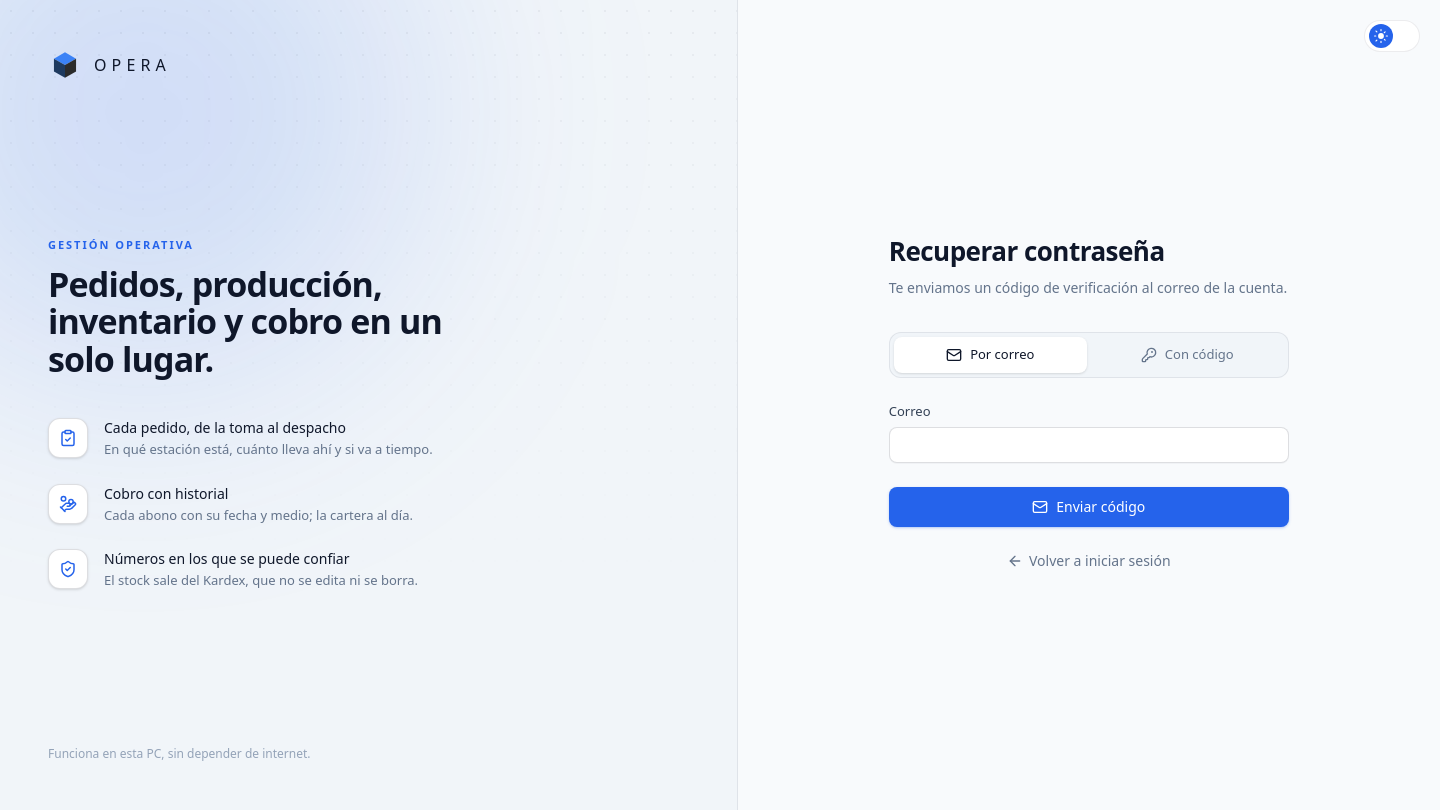
it: ForgotPasswordPage › shows a generic error when the reset failure is not an ApiError
Check: the button "Enviar código" is shown, box [889,487,1289,527]
Type "admin@opera.local" into the field labelled "Correo" at point(1089, 445), box [889,427,1289,463]
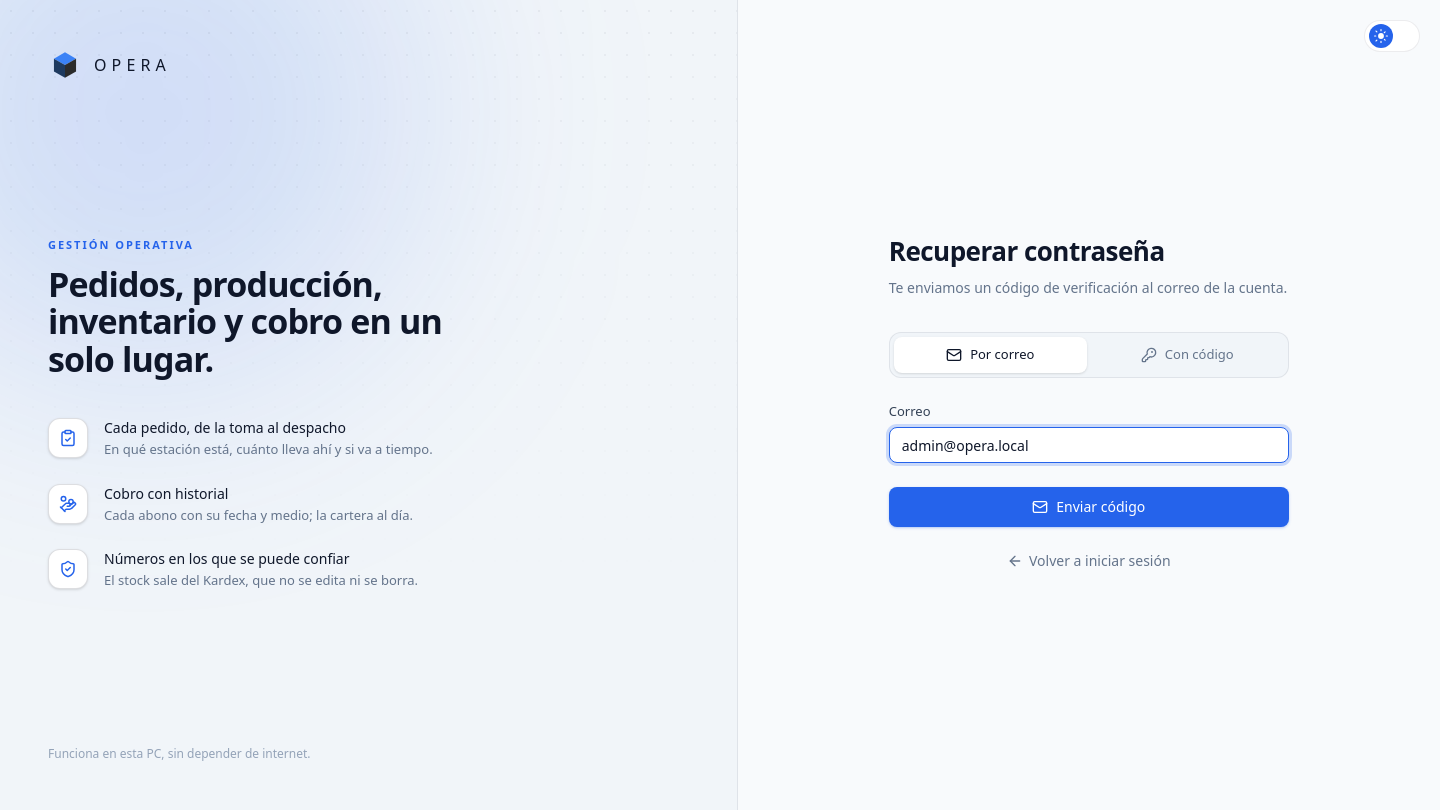
Click the button "Enviar código" at point(1089, 507), box [889,487,1289,527]
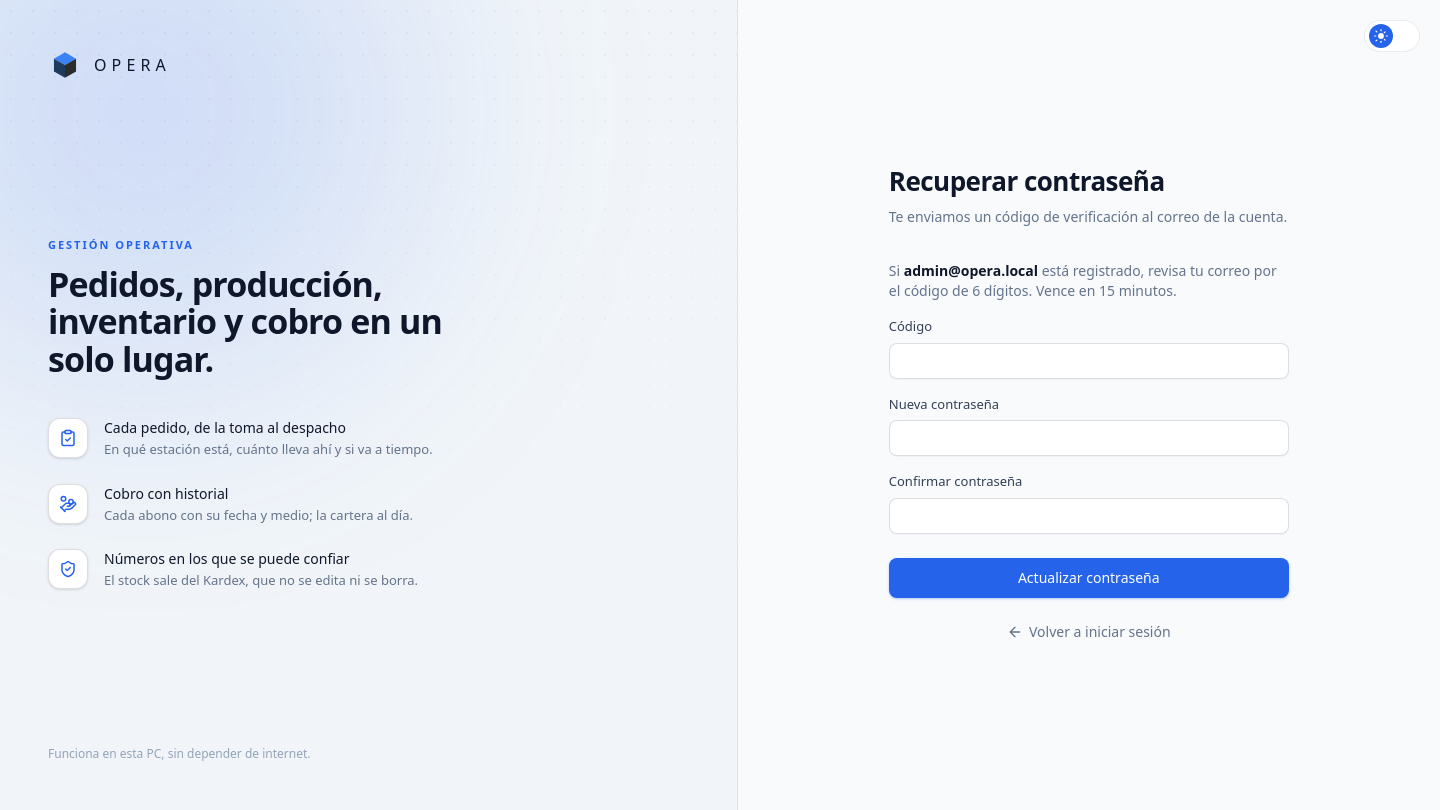
Check: the field labelled "Código" is shown
Type "000000" into the field labelled "Código" at point(1089, 360), box [889,342,1289,378]
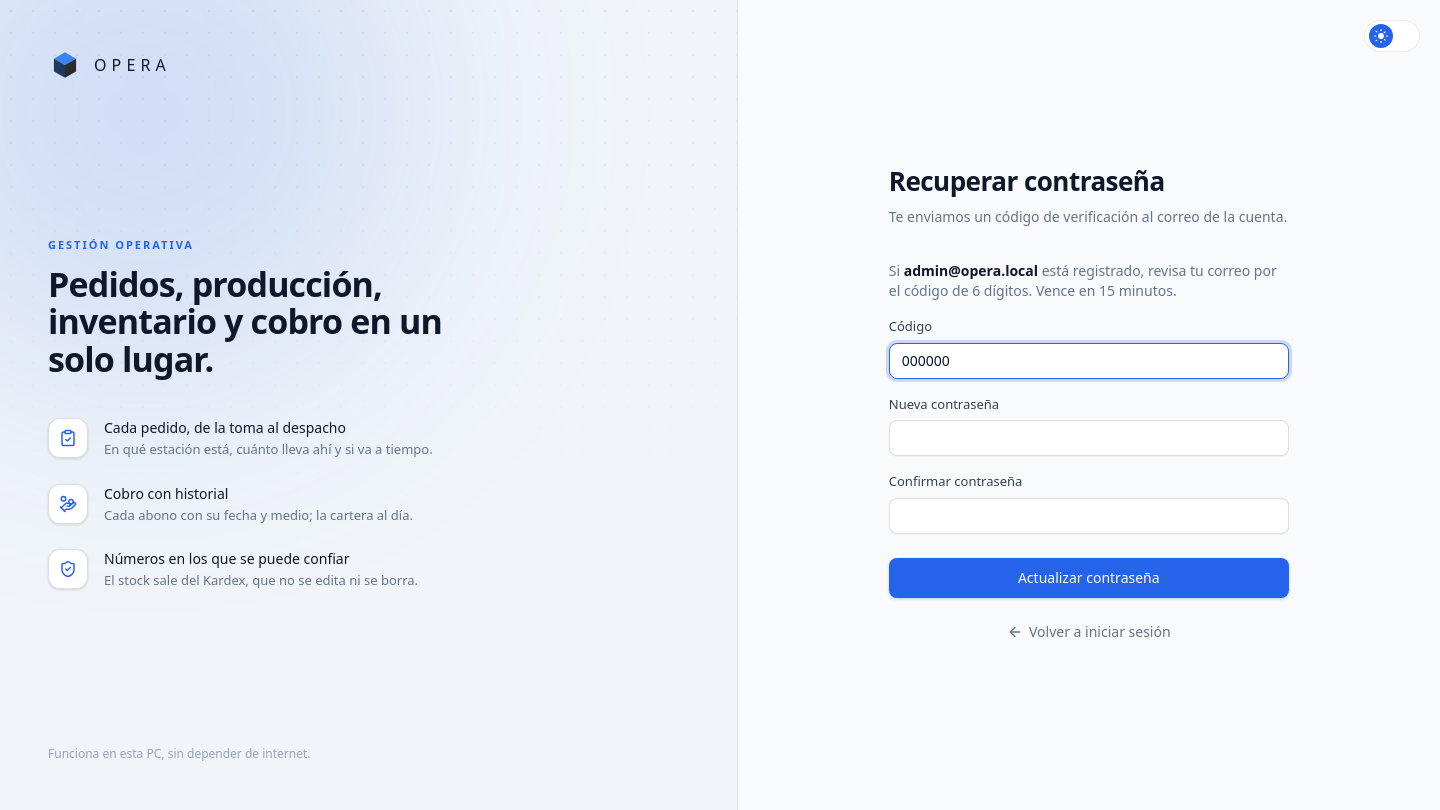
Type "password123" into the password field labelled "Nueva contraseña" at point(1089, 438), box [889,420,1289,456]
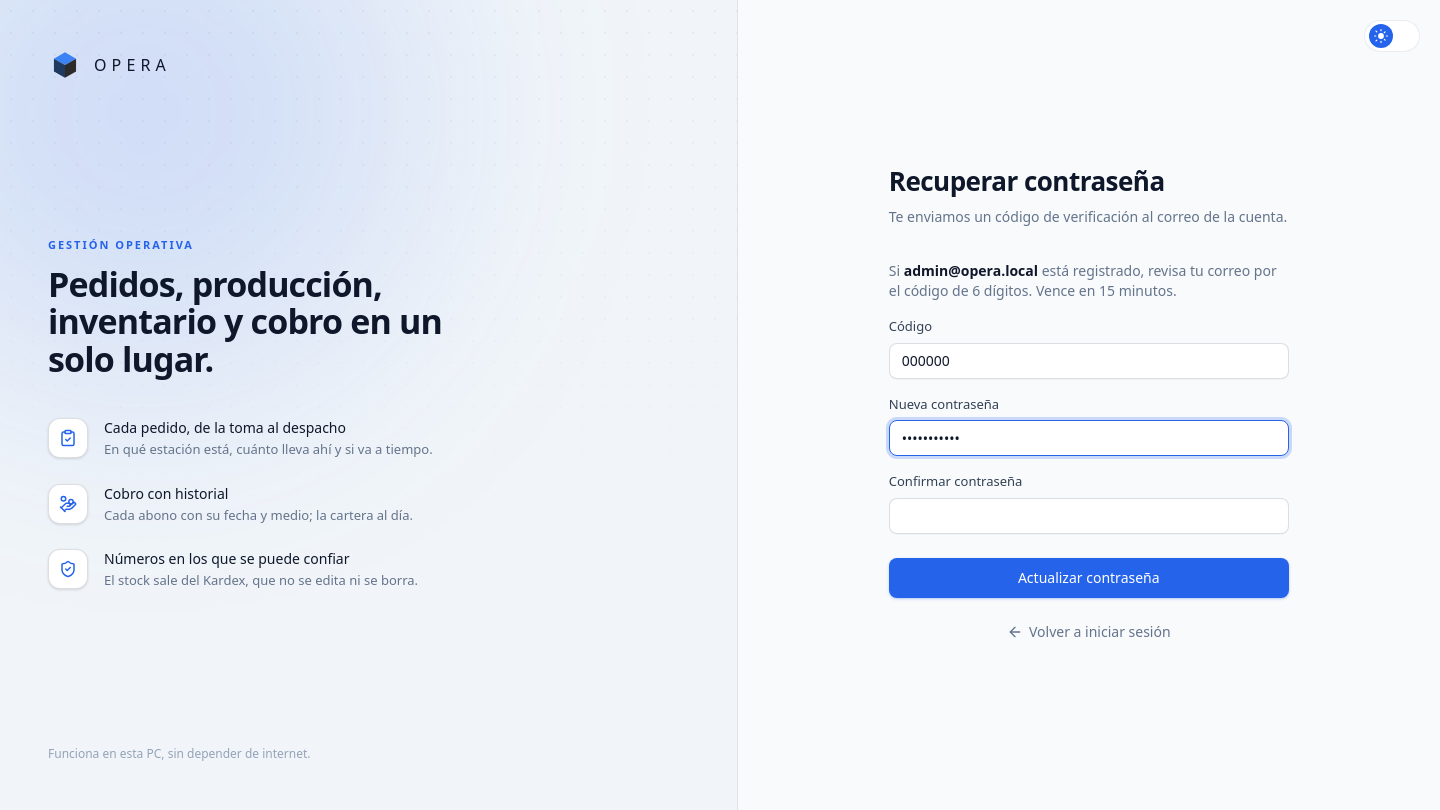
Type "password123" into the password field labelled "Confirmar contraseña" at point(1089, 516), box [889,498,1289,534]
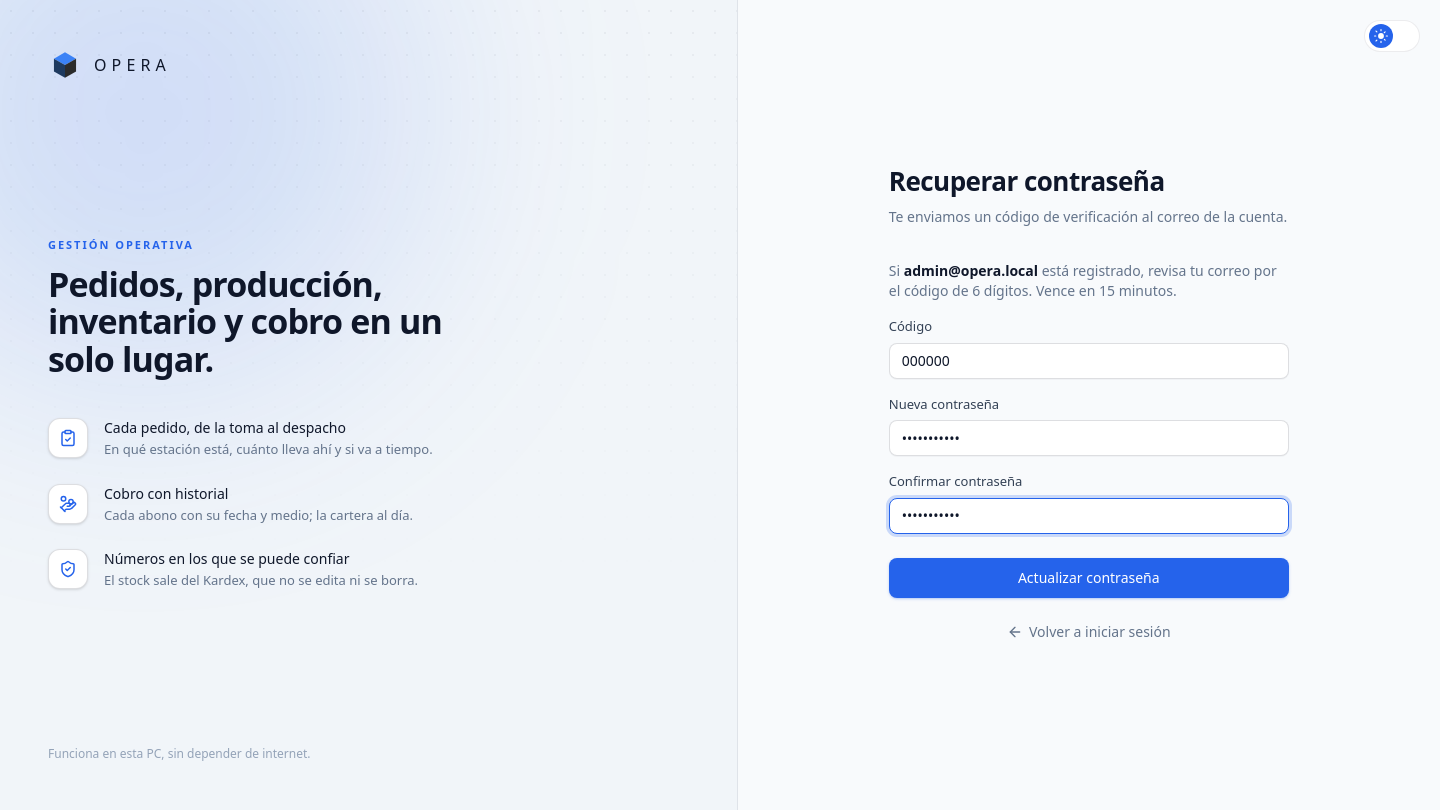
Click the button "Actualizar contraseña" at point(1089, 578), box [889,558,1289,598]
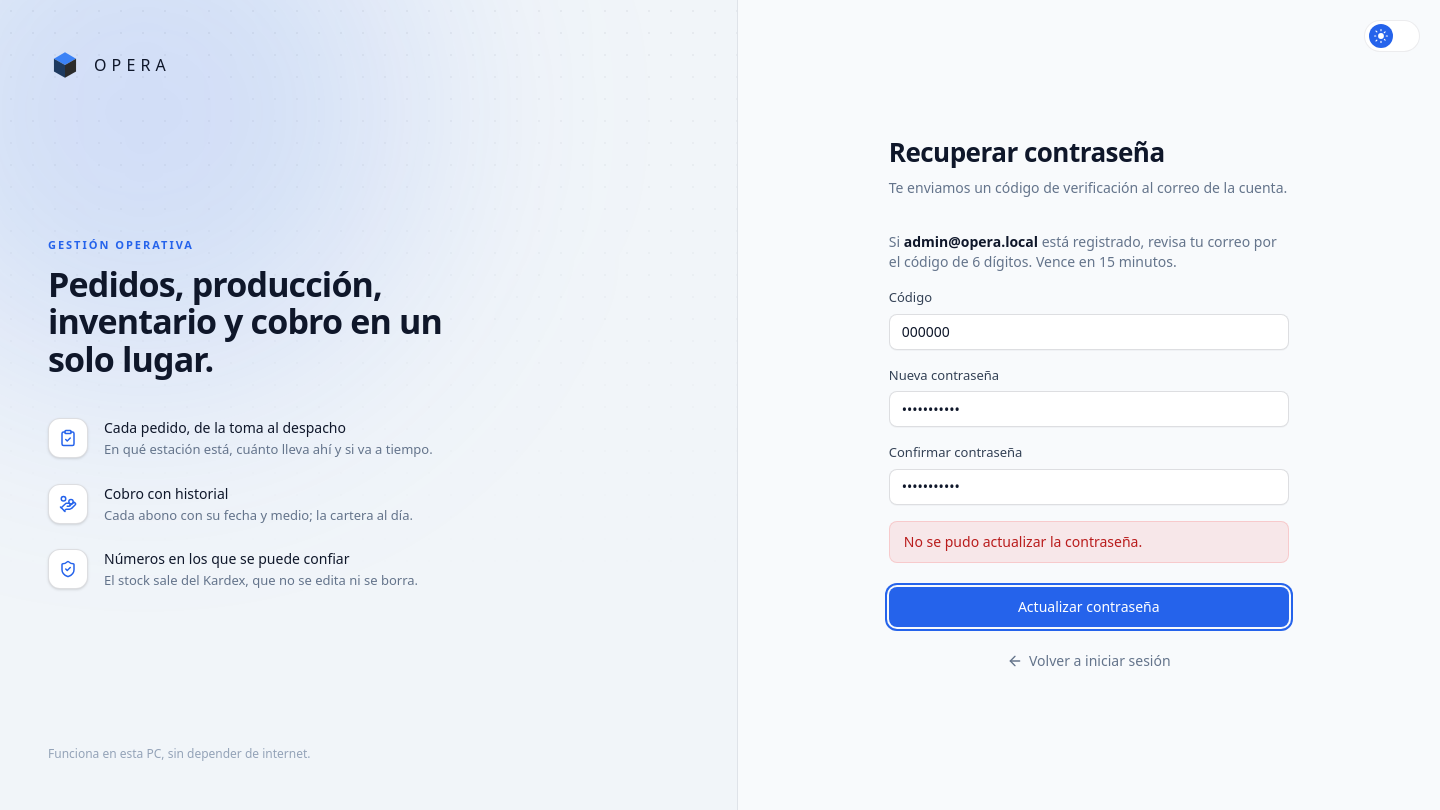
Check: the text "No se pudo actualizar la contraseña." is shown, box [889,520,1289,562]
